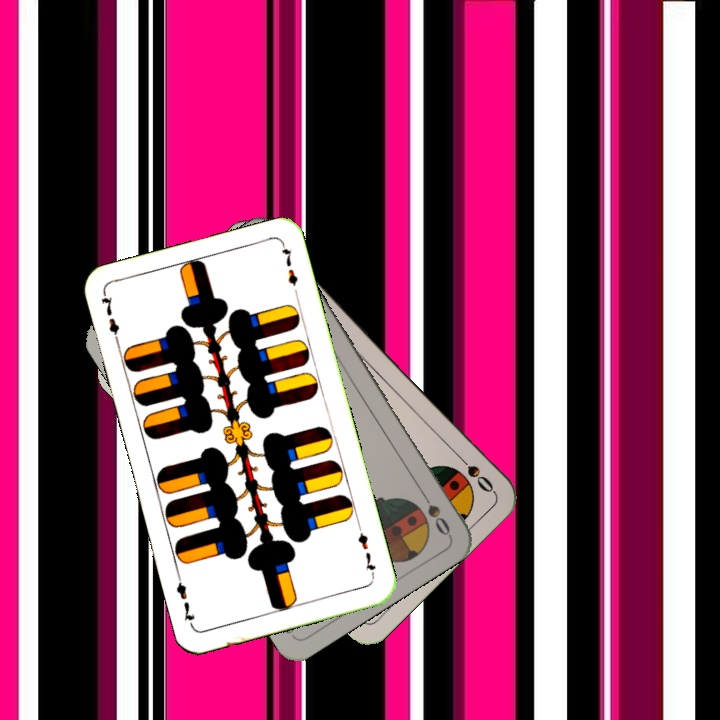E7: (97, 290, 123, 348), (354, 522, 378, 580)
SO: (450, 448, 496, 496), (415, 485, 453, 539)
